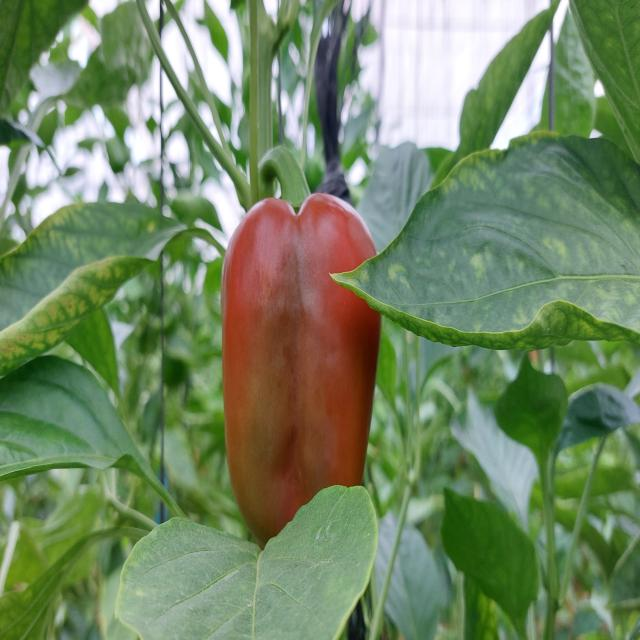BrownishRed--Can-be-Harvested: (227, 203, 372, 545)
